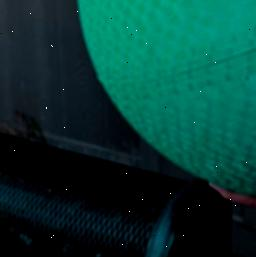algae: (74, 0, 256, 197)
